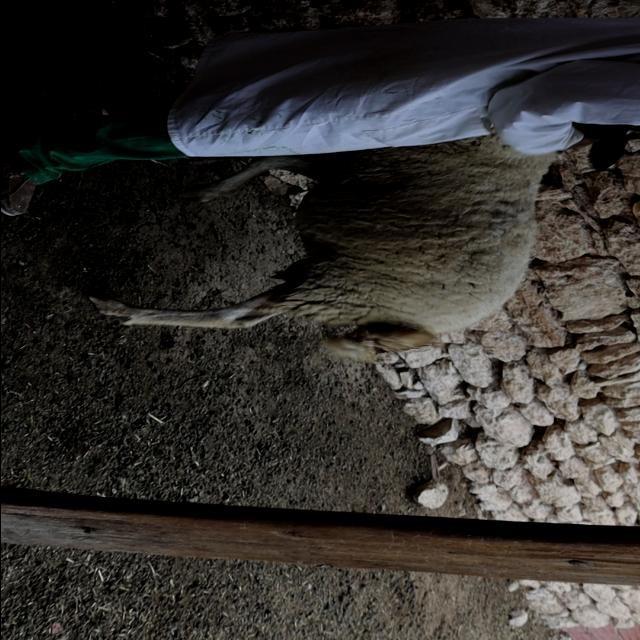Score_4: (88, 134, 553, 362)
